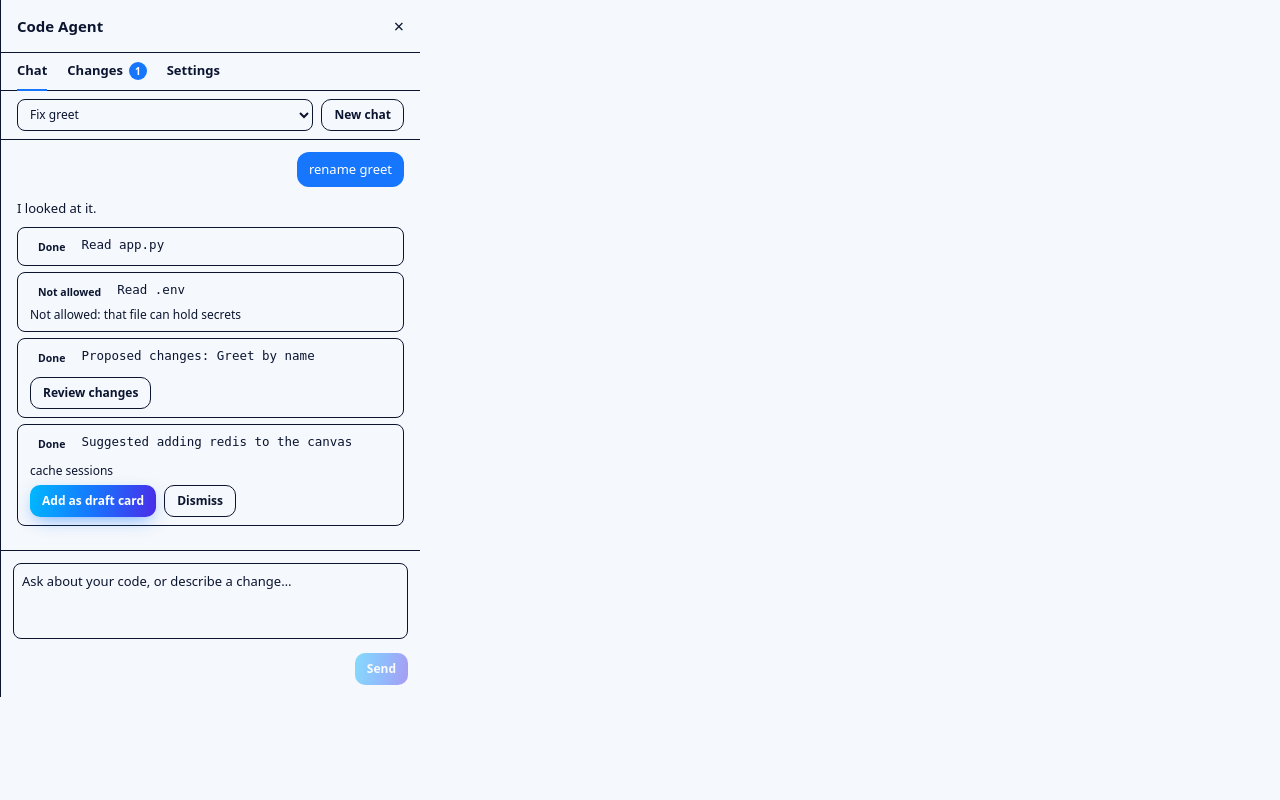
Test case: AgentPanel › shows the conversation with tool activity, denials and review links
The width and height of the screenshot is (1280, 800).
Expected: the text "rename greet" is shown, [297,152,404,187]
Expected: the text "Read app.py" is shown, [81,236,164,254]
Click the button "Review changes" at x=91, y=393, box [30,377,151,409]
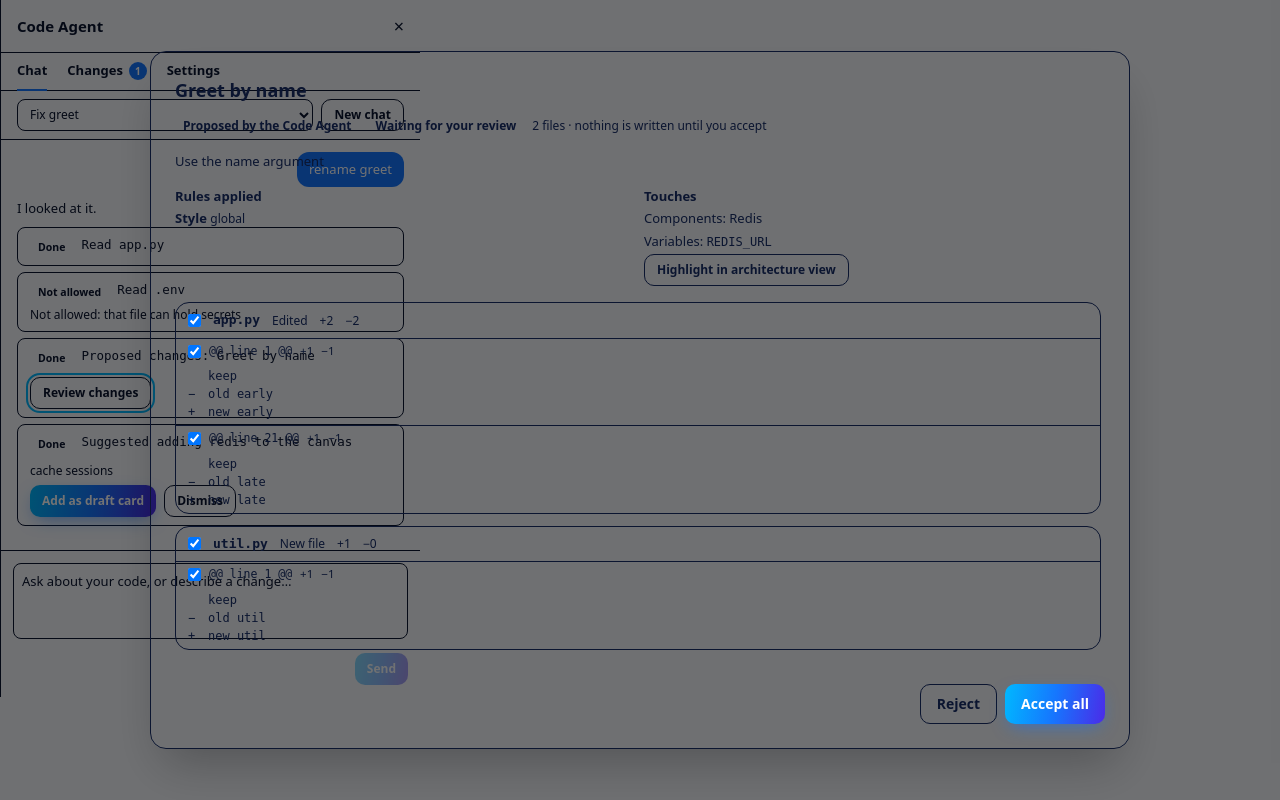
Result: the dialog "Greet by name" is shown
